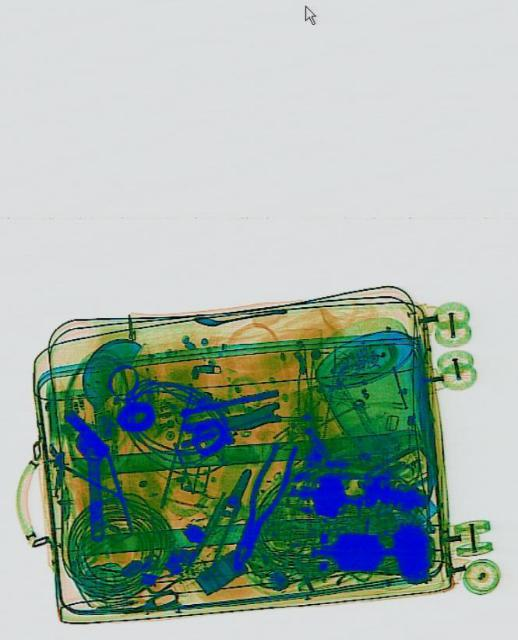Pliers: (222, 434, 298, 576), (182, 461, 256, 581)
Wrench: (75, 428, 111, 540)
